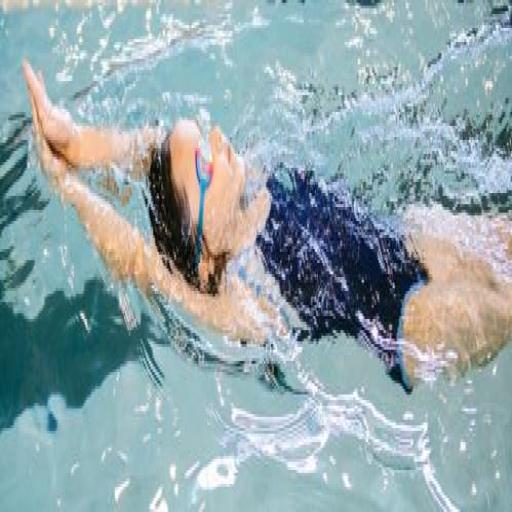swimming: (20, 53, 511, 400)
